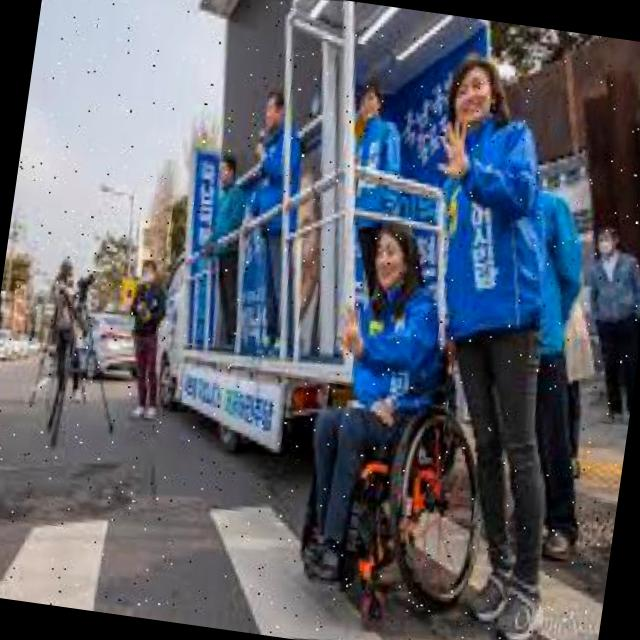Person: (369, 47, 621, 640), (264, 207, 526, 639), (475, 166, 638, 576), (215, 83, 331, 364), (324, 76, 424, 316), (186, 152, 268, 355), (563, 220, 640, 434), (113, 255, 181, 423)
